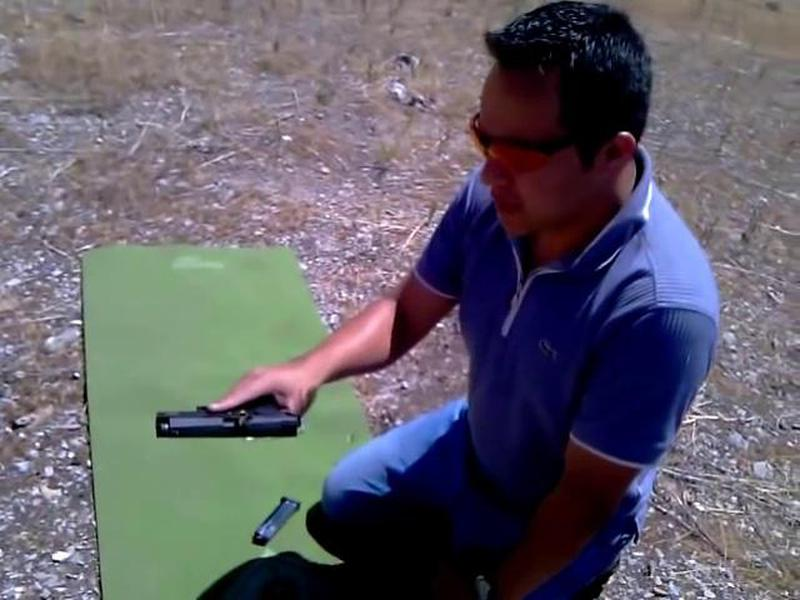Pistola: (133, 365, 312, 473)
